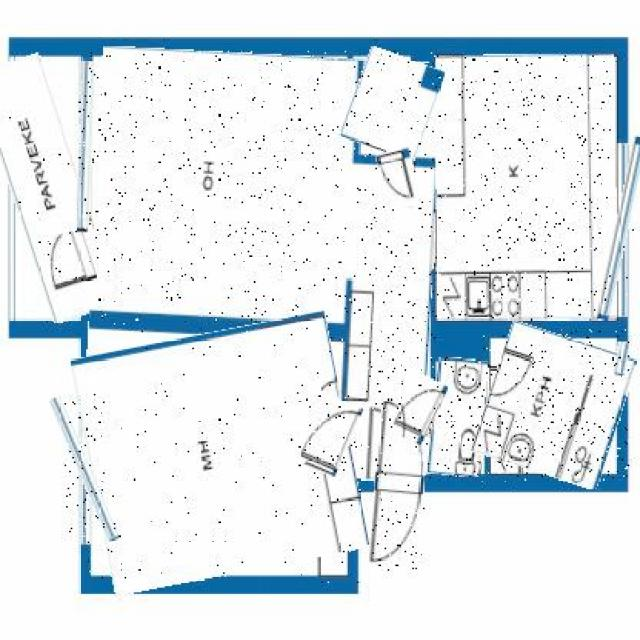door: (372, 395, 428, 571), (292, 394, 357, 474), (38, 231, 94, 289), (394, 375, 441, 443), (378, 148, 418, 208)
window: (64, 394, 104, 544), (606, 136, 637, 322), (78, 57, 94, 232), (614, 342, 628, 376)
zone: (88, 51, 437, 478), (80, 322, 360, 584), (435, 55, 617, 320), (0, 53, 98, 321), (480, 329, 629, 482), (346, 52, 437, 157), (431, 357, 486, 477)
